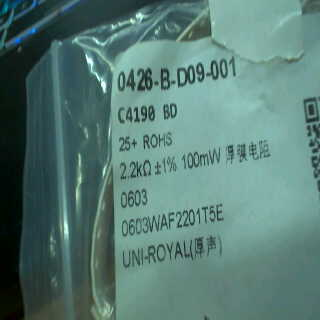2.2kR: (117, 156, 152, 183)
